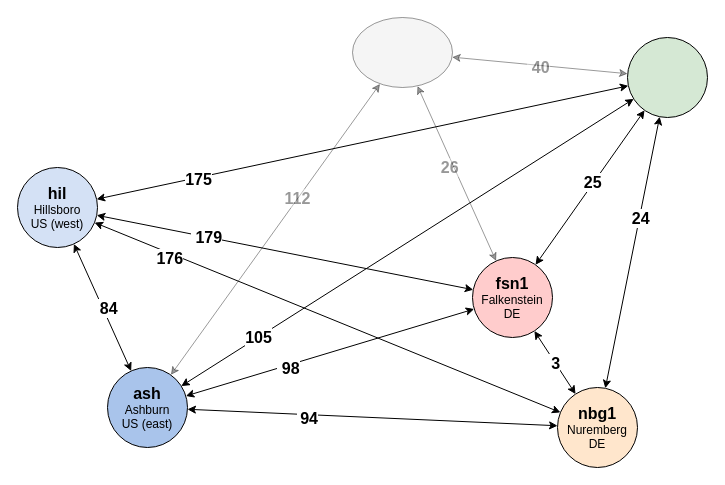
This 725x485 diagram has some shape labels left out. Each missing label, with the centre of its shape:
"hel1 Helsinki FI" goes at (667,77).
"home Hamburg DE" goes at (402,52).
